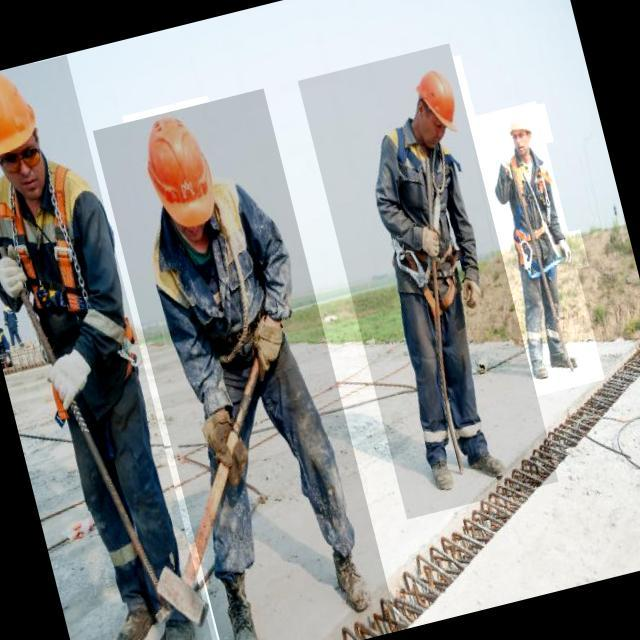Gloves: (183, 390, 265, 504), (38, 341, 105, 424), (239, 302, 303, 385), (0, 242, 41, 318), (411, 211, 455, 277), (446, 267, 499, 318), (550, 229, 589, 273), (495, 139, 529, 178)
Helmet: (122, 95, 238, 240), (399, 54, 481, 152), (0, 62, 55, 173), (501, 102, 554, 152)
Person: (107, 78, 397, 636), (0, 64, 194, 640), (369, 37, 520, 509), (490, 75, 600, 419)
Safety Boot: (317, 529, 390, 629), (202, 562, 285, 640), (85, 571, 171, 640), (139, 584, 214, 640), (416, 433, 469, 512), (448, 423, 510, 489), (515, 341, 562, 399), (542, 332, 593, 385)
no-vest: (151, 180, 297, 427), (0, 164, 137, 406), (369, 124, 485, 289), (493, 148, 568, 276)
